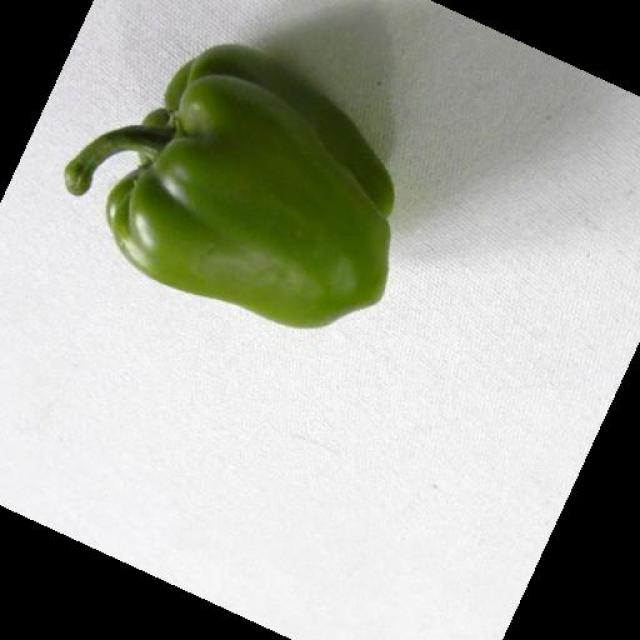Fresh_Capsicum: (71, 39, 409, 334)
